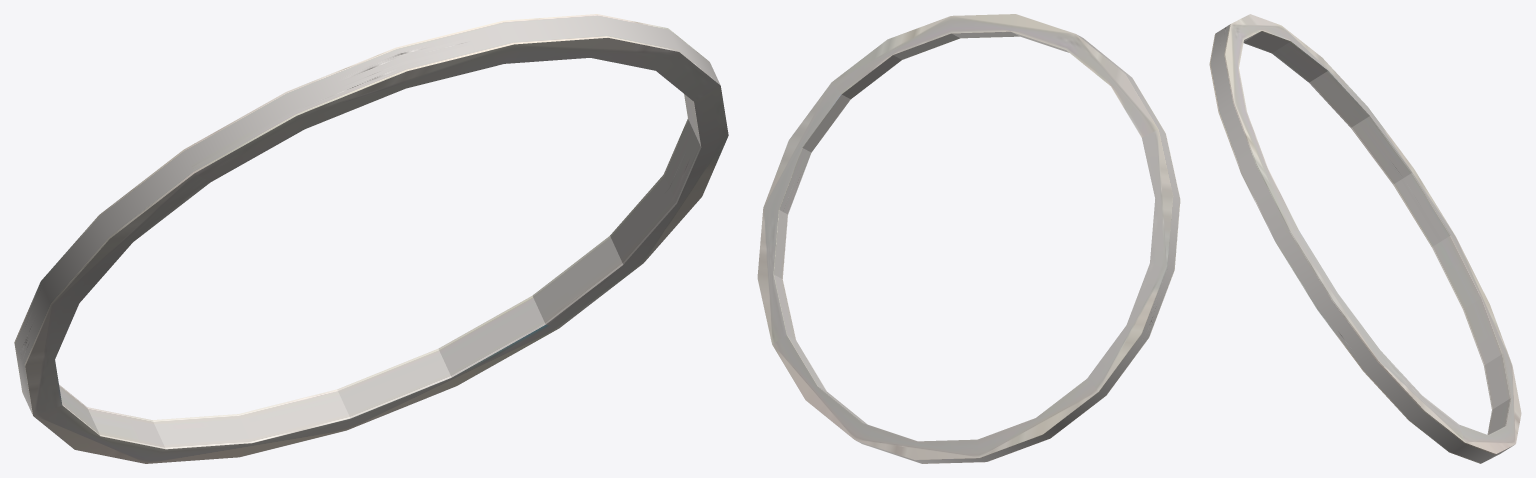
Rendered from small_InnerRing002CelestialPrism_lowPoly.glb.
3 renders of one model, left to right at view 1: azimuth 30°, elevation 25°; view 2: azimuth 150°, elevation 25°; view 3: azimuth 270°, elevation 25°, orthographic. The views are drawn at different scales.
Parts seen in each view (by area): view 1: polySurface3; view 2: polySurface3; view 3: polySurface3.
Boxes of the visible parts, x1,y1,x2,y2 form: polySurface3: (14, 14, 728, 463); polySurface3: (757, 14, 1180, 463); polySurface3: (1209, 14, 1521, 463).
Bounding box in the file's own units: 0.5308 × 0.4435 × 0.3243.
1 material, 1 textured.
